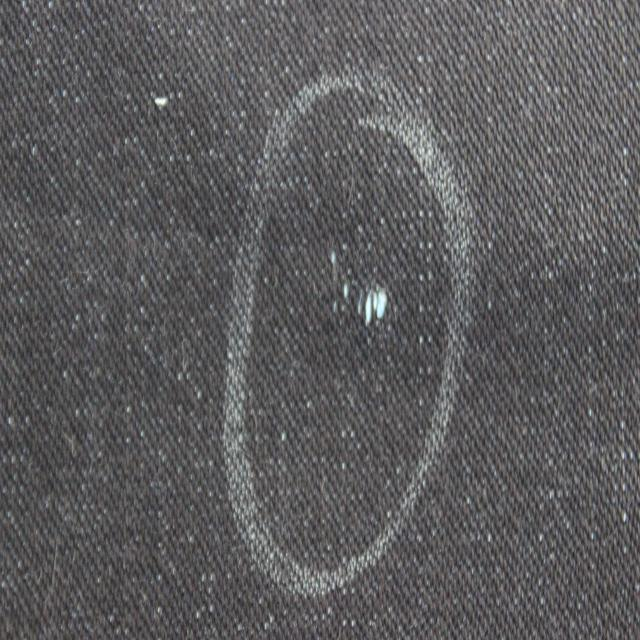pulled_or_thick_thread: (334, 242, 409, 334)
